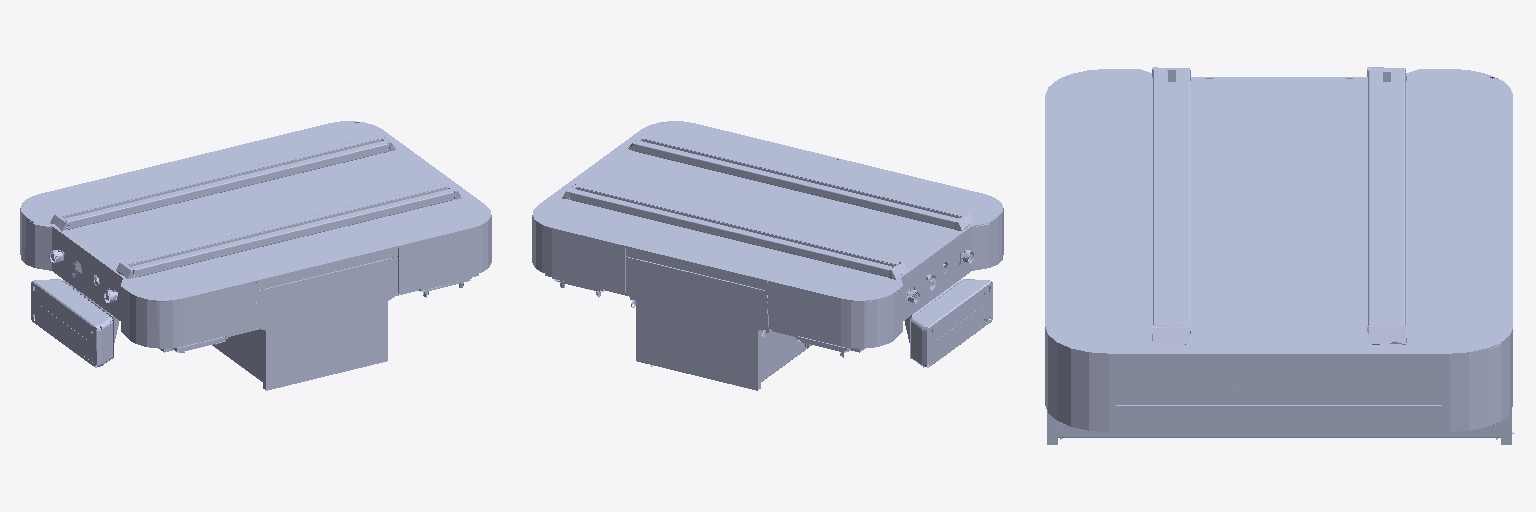
The robot description file, URDF, robot "ranger_mini_v3":
<?xml version="1.0" ?>
<!-- =================================================================================== -->
<!-- |    This document was autogenerated by xacro from [local-path]/sim1_ws/src/ugv_gazebo_sim/ranger_mini/ranger_mini_v3/urdf/ranger_mini.xacro | -->
<!-- |    EDITING THIS FILE BY HAND IS NOT RECOMMENDED                                 | -->
<!-- =================================================================================== -->
<robot name="ranger_mini_v3">
  <mujoco>
    <compiler balanceinertia="true" discardvisual="false" meshdir="[local-path]/sim1_ws/src/ugv_gazebo_sim/ranger_mini/ranger_mini_v3/meshes"/>
  </mujoco>
  <link name="base_link">
    <inertial>
      <origin rpy="0 0 0" xyz="-0.0242698272228022 -0.0030308024613212 0.0544267444673498"/>
      <mass value="10"/>
      <inertia ixx="0.1354" ixy="0.0" ixz="0.0" iyy="0.2417" iyz="0.0" izz="0.3085"/>
    </inertial>
    <visual>
      <origin rpy="0 0 0" xyz="0 0 0.0"/>
      <geometry>
        <mesh filename="package://ranger_mini_v3/meshes/ranger_base.stl" scale="1000 1000 1000"/>
      </geometry>
      <material name="">
        <color rgba="0.792156862745098 0.819607843137255 0.933333333333333 1"/>
      </material>
    </visual>
    <collision>
      <origin rpy="0 0 0" xyz="0 0 -0.1"/>
      <geometry>
        <box size="0.5 0.35 0.2"/>
      </geometry>
    </collision>
  </link>
  <link name="fr_steering_wheel_link">
    <inertial>
      <origin rpy="0 0 0" xyz="1.8493E-05 1.2713E-06 0.043679"/>
      <mass value="1"/>
      <inertia ixx="0.0063625" ixy="-1.0581E-07" ixz="-4.0831E-07" iyy="0.006363" iyz="-3.4944E-08" izz="0.010465"/>
    </inertial>
    <visual>
      <origin rpy="0 0 0" xyz="0 0 0"/>
      <geometry>
        <mesh filename="package://ranger_mini_v3/meshes/steering_wheel.stl" scale="10 10 10"/>
      </geometry>
      <material name="">
        <color rgba="0.79216 0.81961 0.93333 1"/>
      </material>
    </visual>
    <collision>
      <origin rpy="0 0 0" xyz="0 0 0"/>
      <geometry>
        <!-- <mesh
          filename="package://ranger_mini_v3/meshes/ranger_mini_v3_wheel_right.stl" /> -->
        <cylinder length="0.001" radius="0.001"/>
      </geometry>
    </collision>
  </link>
  <joint name="fr_steering_joint" type="revolute">
    <origin rpy="0 0 0" xyz="0.25 -0.19 -0.1"/>
    <parent link="base_link"/>
    <child link="fr_steering_wheel_link"/>
    <axis xyz="0 0 -1"/>
    <limit effort="5" lower="-2.1" upper="2.1" velocity="6.28"/>
  </joint>
  <link name="fr_wheel_link">
    <inertial>
      <mass value="8"/>
      <origin xyz="0 0 0"/>
      <inertia ixx="0.02047" ixy="0.0" ixz="0.0" iyy="0.02047" iyz="0.0" izz="0.0324"/>
    </inertial>
    <visual>
      <origin rpy="3.14 0 0" xyz="0 0 0"/>
      <geometry>
        <mesh filename="package://ranger_mini_v3/meshes/wheel_v3.stl" scale="10 10 10"/>
      </geometry>
    </visual>
    <collision>
      <origin rpy="1.57 0 0" xyz="0 0 -0.005"/>
      <geometry>
        <cylinder length="0.08" radius="0.09"/>
      </geometry>
      <contact>
        <ode>
          <min_depth>0.001</min_depth>
        </ode>
      </contact>
    </collision>
  </link>
  <joint name="fr_wheel" type="continuous">
    <origin rpy="0 0 0" xyz="0.0 0.0 -0.12"/>
    <parent link="fr_steering_wheel_link"/>
    <child link="fr_wheel_link"/>
    <axis rpy="0 0 0" xyz="0 1 0"/>
  </joint>
  <link name="fl_steering_wheel_link">
    <inertial>
      <origin rpy="0 0 0" xyz="-0.0017956 -9.6304E-08 0.043642"/>
      <mass value="1"/>
      <inertia ixx="0.0063695" ixy="-2.1067E-08" ixz="-0.00016867" iyy="0.006363" iyz="-1.0301E-08" izz="0.010458"/>
    </inertial>
    <visual>
      <origin rpy="0 0 3.14" xyz="0 0 0"/>
      <geometry>
        <mesh filename="package://ranger_mini_v3/meshes/steering_wheel.stl" scale="10 10 10"/>
      </geometry>
      <material name="">
        <color rgba="0.79216 0.81961 0.93333 1"/>
      </material>
    </visual>
    <collision>
      <origin rpy="0 0 0" xyz="0 0 0"/>
      <geometry>
        <!-- <mesh
          filename="package://ranger_mini_v3/meshes/ranger_mini_v3_wheel.stl" /> -->
        <cylinder length="0.001" radius="0.001"/>
      </geometry>
    </collision>
  </link>
  <joint name="fl_steering_joint" type="revolute">
    <origin rpy="0 0 0" xyz="0.25 0.19 -0.1"/>
    <parent link="base_link"/>
    <child link="fl_steering_wheel_link"/>
    <axis xyz="0 0 -1"/>
    <limit effort="5" lower="-2.1" upper="2.1" velocity="6.28"/>
  </joint>
  <link name="fl_wheel_link">
    <inertial>
      <mass value="8"/>
      <origin xyz="0 0 0"/>
      <inertia ixx="0.02047" ixy="0.0" ixz="0.0" iyy="0.02047" iyz="0.0" izz="0.0324"/>
    </inertial>
    <visual>
      <origin rpy="0 0 0" xyz="0 0 0"/>
      <geometry>
        <mesh filename="package://ranger_mini_v3/meshes/wheel_v3.stl" scale="10 10 10"/>
      </geometry>
    </visual>
    <collision>
      <origin rpy="1.57 0 0" xyz="0 0 -0.005"/>
      <geometry>
        <cylinder length="0.08" radius="0.09"/>
      </geometry>
      <contact>
        <ode>
          <min_depth>0.001</min_depth>
        </ode>
      </contact>
    </collision>
  </link>
  <joint name="fl_wheel" type="continuous">
    <origin rpy="0 0 0" xyz="0.0 0.0 -0.12"/>
    <parent link="fl_steering_wheel_link"/>
    <child link="fl_wheel_link"/>
    <axis rpy="0 0 0" xyz="0 1 0"/>
  </joint>
  <link name="rl_steering_wheel_link">
    <inertial>
      <origin rpy="0 0 0" xyz="-0.00017093 6.1255E-08 0.043678"/>
      <mass value="1"/>
      <inertia ixx="0.0063627" ixy="-2.1069E-08" ixz="-1.587E-05" iyy="0.006363" iyz="9.3201E-09" izz="0.010465"/>
    </inertial>
    <visual>
      <origin rpy="0 0 3.14" xyz="0 0 0"/>
      <geometry>
        <mesh filename="package://ranger_mini_v3/meshes/steering_wheel.stl" scale="10 10 10"/>
      </geometry>
      <material name="">
        <color rgba="0.79216 0.81961 0.93333 1"/>
      </material>
    </visual>
    <collision>
      <origin rpy="0 0 0" xyz="0 0 0"/>
      <geometry>
        <!-- <mesh
          filename="package://ranger_mini_v3/meshes/ranger_mini_v3_wheel_right.stl" /> -->
        <cylinder length="0.001" radius="0.001"/>
      </geometry>
    </collision>
  </link>
  <joint name="rl_steering_joint" type="revolute">
    <origin rpy="0 0 0" xyz="-0.25 0.19 -0.1"/>
    <parent link="base_link"/>
    <child link="rl_steering_wheel_link"/>
    <axis xyz="0 0 -1"/>
    <limit effort="5" lower="-2.1" upper="2.1" velocity="6.28"/>
  </joint>
  <link name="rl_wheel_link">
    <inertial>
      <mass value="8"/>
      <origin xyz="0 0 0"/>
      <inertia ixx="0.02047" ixy="0.0" ixz="0.0" iyy="0.02047" iyz="0.0" izz="0.0324"/>
    </inertial>
    <visual>
      <origin rpy="0 0 0" xyz="0 0 0"/>
      <geometry>
        <mesh filename="package://ranger_mini_v3/meshes/wheel_v3.stl" scale="10 10 10"/>
      </geometry>
    </visual>
    <collision>
      <origin rpy="1.57 0 0" xyz="0.00 0.00 -0.005"/>
      <geometry>
        <cylinder length="0.08" radius="0.09"/>
      </geometry>
      <contact>
        <ode>
          <min_depth>0.001</min_depth>
        </ode>
      </contact>
    </collision>
  </link>
  <joint name="rl_wheel" type="continuous">
    <origin rpy="0 0 0" xyz="0.0 0.0 -0.12 "/>
    <parent link="rl_steering_wheel_link"/>
    <child link="rl_wheel_link"/>
    <axis rpy="0 0 0" xyz="0 1 0"/>
  </joint>
  <link name="rr_steering_wheel_link">
    <inertial>
      <origin xyz="0.0 0.0 0.0"/>
      <mass value="1"/>
      <inertia ixx="0.01" ixy="0.0" ixz="0.0" iyy="0.01" iyz="0.0" izz="0.01"/>
    </inertial>
    <visual>
      <origin rpy="0 0 0" xyz="0 0 0"/>
      <geometry>
        <mesh filename="package://ranger_mini_v3/meshes/steering_wheel.stl" scale="10 10 10"/>
      </geometry>
    </visual>
    <collision>
      <origin rpy="0 0 0" xyz="0 0 0"/>
      <geometry>
        <cylinder length="0.001" radius="0.001"/>
      </geometry>
    </collision>
  </link>
  <joint name="rr_steering_joint" type="revolute">
    <origin rpy="0 0 0" xyz="-0.23 -0.206 -0.1"/>
    <parent link="base_link"/>
    <child link="rr_steering_wheel_link"/>
    <axis rpy="0 0 0" xyz="0 0 -1"/>
    <limit effort="5" lower="-2.1" upper="2.1" velocity="6.28"/>
  </joint>
  <link name="rr_wheel_link">
    <inertial>
      <mass value="8"/>
      <origin xyz="0 0 0"/>
      <inertia ixx="0.02047" ixy="0.0" ixz="0.0" iyy="0.02047" iyz="0.0" izz="0.0324"/>
    </inertial>
    <visual>
      <origin rpy="3.14 0 0" xyz="0.0 0.0 0.0"/>
      <geometry>
        <mesh filename="package://ranger_mini_v3/meshes/wheel_v3.stl" scale="10 10 10"/>
      </geometry>
    </visual>
    <collision>
      <origin rpy="1.57 0 0" xyz="0.0 0.0 -0.005"/>
      <geometry>
        <cylinder length="0.08" radius="0.09"/>
      </geometry>
      <contact>
        <ode>
          <min_depth>0.001</min_depth>
        </ode>
      </contact>
    </collision>
  </link>
  <joint name="rr_wheel" type="continuous">
    <origin rpy="0 0 0" xyz="0.0 0.0 -0.12 "/>
    <parent link="rr_steering_wheel_link"/>
    <child link="rr_wheel_link"/>
    <axis rpy="0 0 0" xyz="0 1 0"/>
  </joint>
  <!-- 
	<transmission name="fl_steering_wheel_trans">
      <type>transmission_interface/SimpleTransmission</type>
      <joint name="fl_steering_joint">
		<hardwareInterface>hardware_interface/PositionJointInterface</hardwareInterface>
      </joint>
	  <actuator name="fl_steering_wheel_motor">
		<hardwareInterface>hardware_interface/PositionJointInterface</hardwareInterface>
		<mechanicalReduction>30</mechanicalReduction>
      </actuator>
	</transmission>

	<transmission name="fr_steering_wheel_trans">
      <type>transmission_interface/SimpleTransmission</type>
      <joint name="fr_steering_joint">
		<hardwareInterface>hardware_interface/PositionJointInterface</hardwareInterface>
      </joint>
	  <actuator name="fr_steering_wheel_motor">
		<hardwareInterface>hardware_interface/PositionJointInterface</hardwareInterface>
		<mechanicalReduction>30</mechanicalReduction>
      </actuator>
	</transmission>

	<transmission name="rl_steering_wheel_trans">
      <type>transmission_interface/SimpleTransmission</type>
      <joint name="rl_steering_joint">
		<hardwareInterface>hardware_interface/PositionJointInterface</hardwareInterface>
      </joint>
	  <actuator name="rl_steering_wheel_motor">
		<hardwareInterface>hardware_interface/PositionJointInterface</hardwareInterface>
		<mechanicalReduction>30</mechanicalReduction>
      </actuator>
	</transmission>

	<transmission name="rr_steering_wheel_trans">
      <type>transmission_interface/SimpleTransmission</type>
      <joint name="rr_steering_joint">
		<hardwareInterface>hardware_interface/PositionJointInterface</hardwareInterface>
      </joint>
	  <actuator name="rr_steering_wheel_motor">
		<hardwareInterface>hardware_interface/PositionJointInterface</hardwareInterface>
		<mechanicalReduction>30</mechanicalReduction>
      </actuator>
	</transmission>

	<transmission name="fl_wheel_trans">
      <type>transmission_interface/SimpleTransmission</type>
      <joint name="fl_wheel">
		<hardwareInterface>hardware_interface/VelocityJointInterface</hardwareInterface>
      </joint>
	  <actuator name="fl_wheel_motor">
		<hardwareInterface>hardware_interface/VelocityJointInterface</hardwareInterface>
		<mechanicalReduction>30</mechanicalReduction>
      </actuator>
	</transmission>

	<transmission name="fr_wheel_trans">
      <type>transmission_interface/SimpleTransmission</type>
      <joint name="fr_wheel">
		<hardwareInterface>hardware_interface/VelocityJointInterface</hardwareInterface>
      </joint>
	  <actuator name="fr_wheel_motor">
		<hardwareInterface>hardware_interface/VelocityJointInterface</hardwareInterface>
		<mechanicalReduction>30</mechanicalReduction>
      </actuator>
	</transmission>

	<transmission name="rl_wheel_trans">
      <type>transmission_interface/SimpleTransmission</type>
      <joint name="rl_wheel">
		<hardwareInterface>hardware_interface/VelocityJointInterface</hardwareInterface>
      </joint>
	  <actuator name="rl_wheel_motor">
		<hardwareInterface>hardware_interface/VelocityJointInterface</hardwareInterface>
		<mechanicalReduction>30</mechanicalReduction>
      </actuator>
	</transmission>

	<transmission name="rr_wheel_trans">
      <type>transmission_interface/SimpleTransmission</type>
      <joint name="rr_wheel">
		<hardwareInterface>hardware_interface/VelocityJointInterface</hardwareInterface>
      </joint>
	  <actuator name="rr_wheel_motor">
		<hardwareInterface>hardware_interface/VelocityJointInterface</hardwareInterface>
		<mechanicalReduction>30</mechanicalReduction>
      </actuator>
	</transmission>
  <gazebo>
    <plugin name="gazebo_ros_control" filename="libgazebo_ros_control.so">
    </plugin>
  </gazebo> -->
</robot>

--- What the picture shows (computed from the rendered views, not written in the file) ---
3 views of the same robot in one strip: view 1: azimuth 30°, elevation 25°; view 2: azimuth 150°, elevation 25°; view 3: azimuth 270°, elevation 25° (orthographic).
Robot: ranger_mini_v3 — 9 links, 8 joints (4 revolute, 4 continuous); root link base_link; default pose: every joint at zero.
Visible links, largest first — view 1: base_link; view 2: base_link; view 3: base_link.
Boxes of the visible links, box(x1,y1,x2,y2) form: base_link: box(20, 121, 491, 390); base_link: box(532, 121, 1003, 390); base_link: box(1045, 67, 1514, 444).
Size in the robot's own frame: 751 by 503 by 240 metres.
Meshes: 3 distinct files referenced, 9 mesh visuals loaded (3 binary STL).